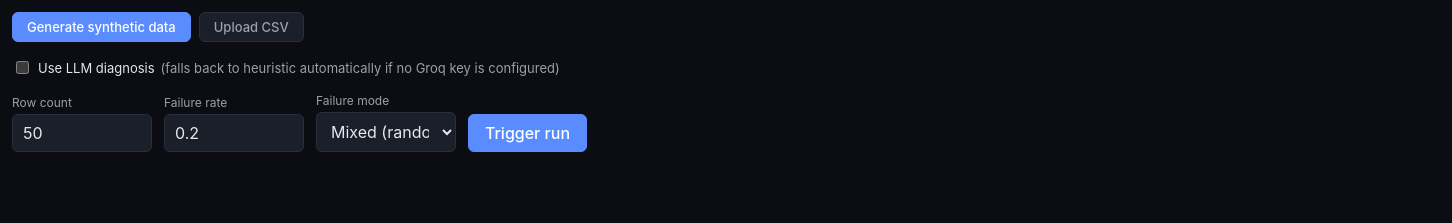
Test: TriggerRunForm › re-enables the submit button after a failed submission
The width and height of the screenshot is (1452, 223).
Click the button "Trigger run": click(528, 133) [468, 114, 587, 152]
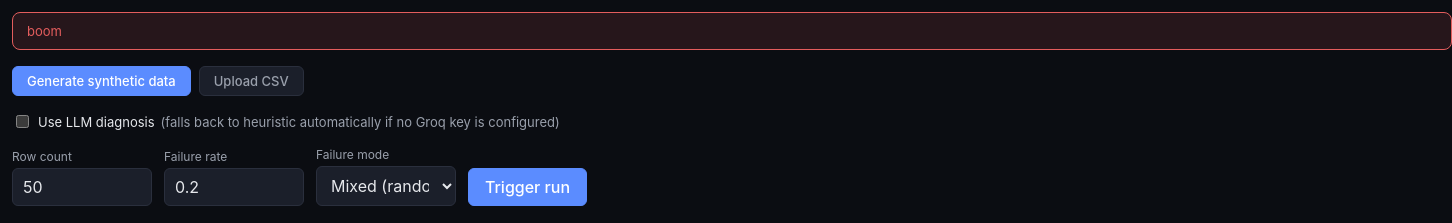
Expected: the button "Trigger run" is enabled, [468, 168, 587, 206]
Expected: the text "boom" is shown, [12, 12, 1451, 50]
